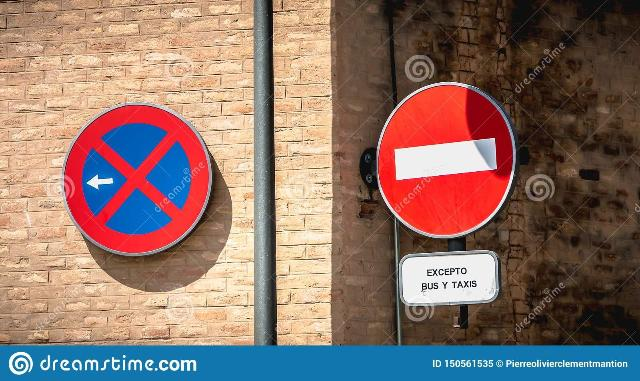B2: (374, 80, 518, 239)
